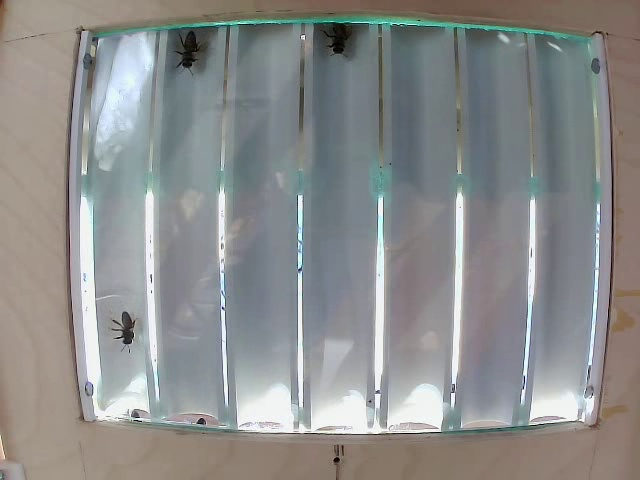bee: (173, 27, 215, 83)
